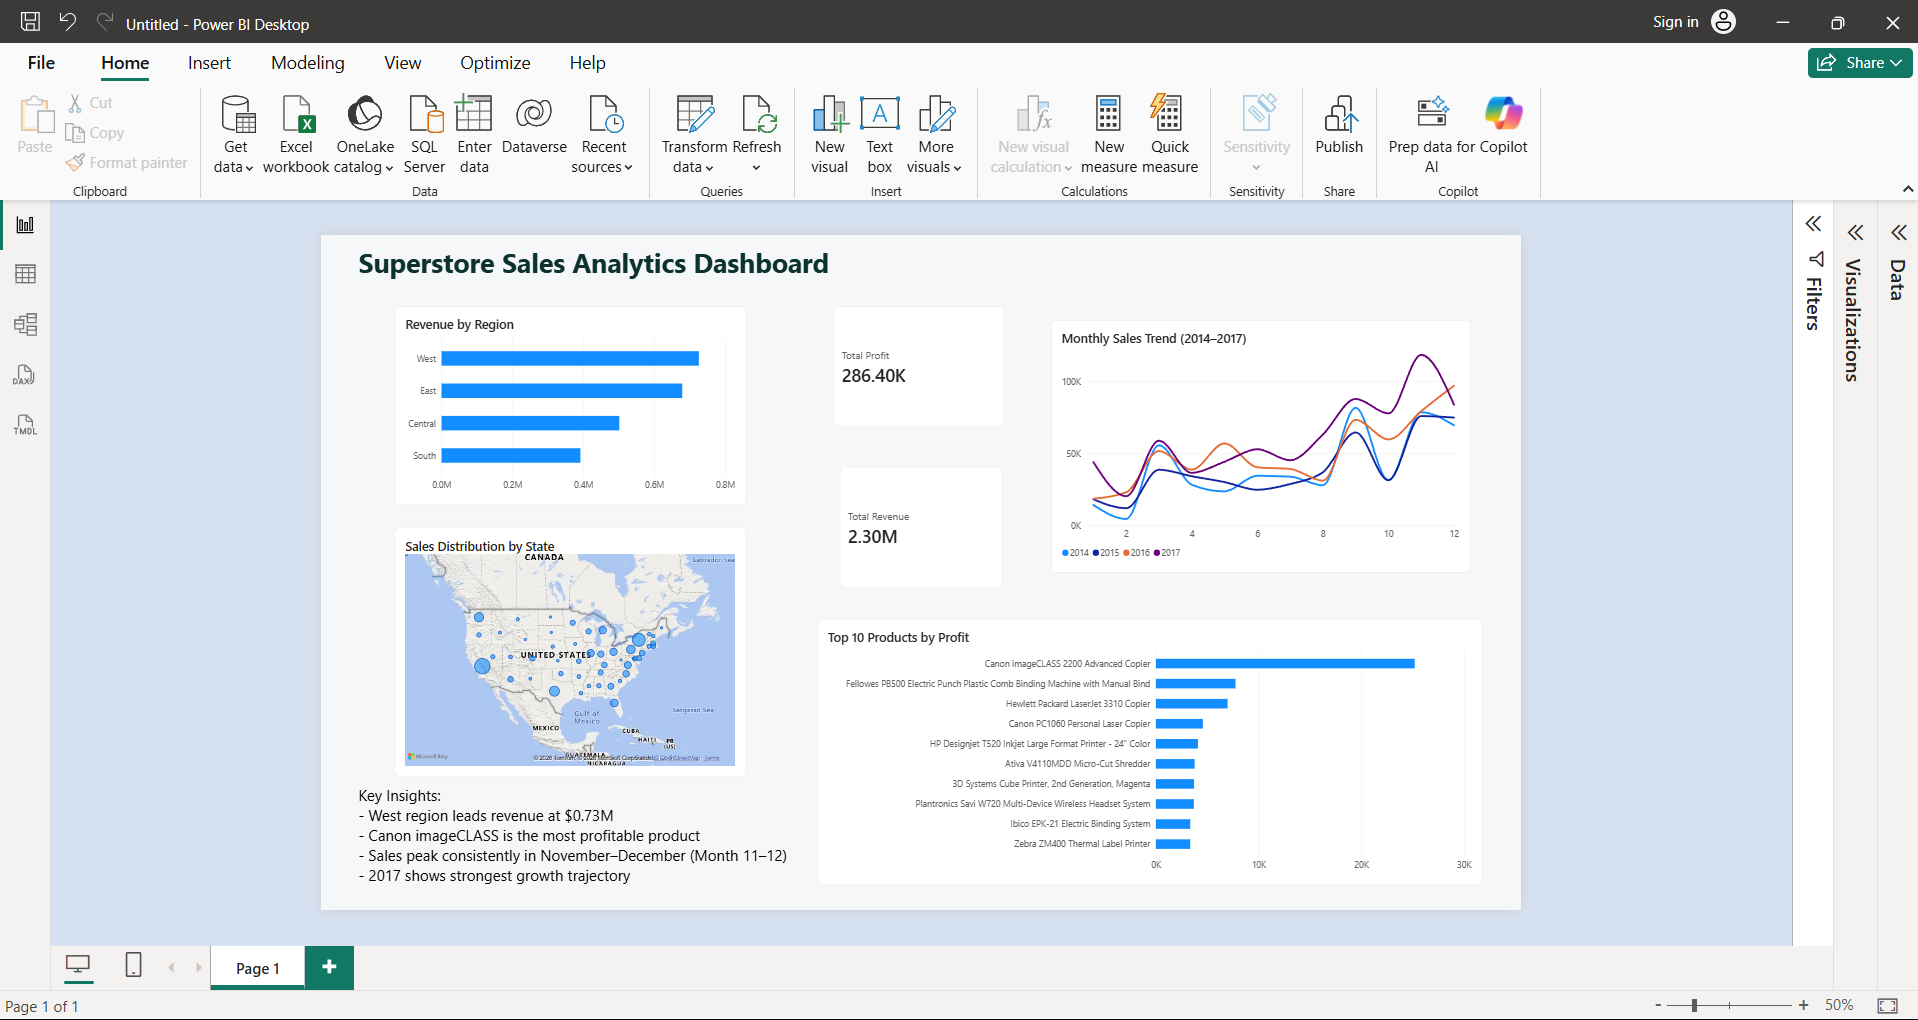

This screenshot's page, from the dashboard's own definition file:
{"tool":"powerbi","page":{"name":"Page 1","canvas":[1920,1080],"ordinal":0},"visuals":[{"type":"cardVisual","title":"Total Revenue","fields":{"Data":["Sum(superstore_cleaned.Sales)"]},"box":[830,372,260,192],"z":0},{"type":"cardVisual","fields":{"Data":["Sum(superstore_cleaned.Profit)"]},"box":[820,114,272,192],"z":1000},{"type":"clusteredBarChart","title":"Revenue by Region","fields":{"Category":["superstore_cleaned.Region"],"Y":["Sum(superstore_cleaned.Sales)"]},"box":[118,114,562,318],"z":2000},{"type":"lineChart","title":"Monthly Sales Trend (2014–2017)","fields":{"Category":["superstore_cleaned.Month"],"Series":["superstore_cleaned.Year"],"Y":["Sum(superstore_cleaned.Sales)"]},"box":[1168,136,672,404],"z":3000},{"type":"clusteredBarChart","title":"Top 10 Products by Profit","fields":{"Category":["superstore_cleaned.Product Name"],"Y":["Sum(superstore_cleaned.Profit)"]},"box":[794,614,1064,426],"z":4000},{"type":"textbox","box":[60,14,856,64],"z":5000},{"type":"map","title":"Sales Distribution by State","fields":{"Category":["superstore_cleaned.State"],"Size":["Sum(superstore_cleaned.Sales)"]},"box":[118,468,562,398],"z":6000},{"type":"textbox","box":[60,880,1518,200],"z":7000}]}

Visuals, with their boxes on the page's 1920x1080 design canvas (x1, y1, x2, y2). These are canvas units, not pixel positions in the 1918x1020 screenshot, which may show the page scaled, cropped or inside an application window:
"Total Revenue" cardVisual: (x1=830, y1=372, x2=1090, y2=564)
cardVisual - Sum(superstore_cleaned.Profit): (x1=820, y1=114, x2=1092, y2=306)
"Revenue by Region" clusteredBarChart: (x1=118, y1=114, x2=680, y2=432)
"Monthly Sales Trend (2014–2017)" lineChart: (x1=1168, y1=136, x2=1840, y2=540)
"Top 10 Products by Profit" clusteredBarChart: (x1=794, y1=614, x2=1858, y2=1040)
textbox: (x1=60, y1=14, x2=916, y2=78)
"Sales Distribution by State" map: (x1=118, y1=468, x2=680, y2=866)
textbox: (x1=60, y1=880, x2=1578, y2=1080)
